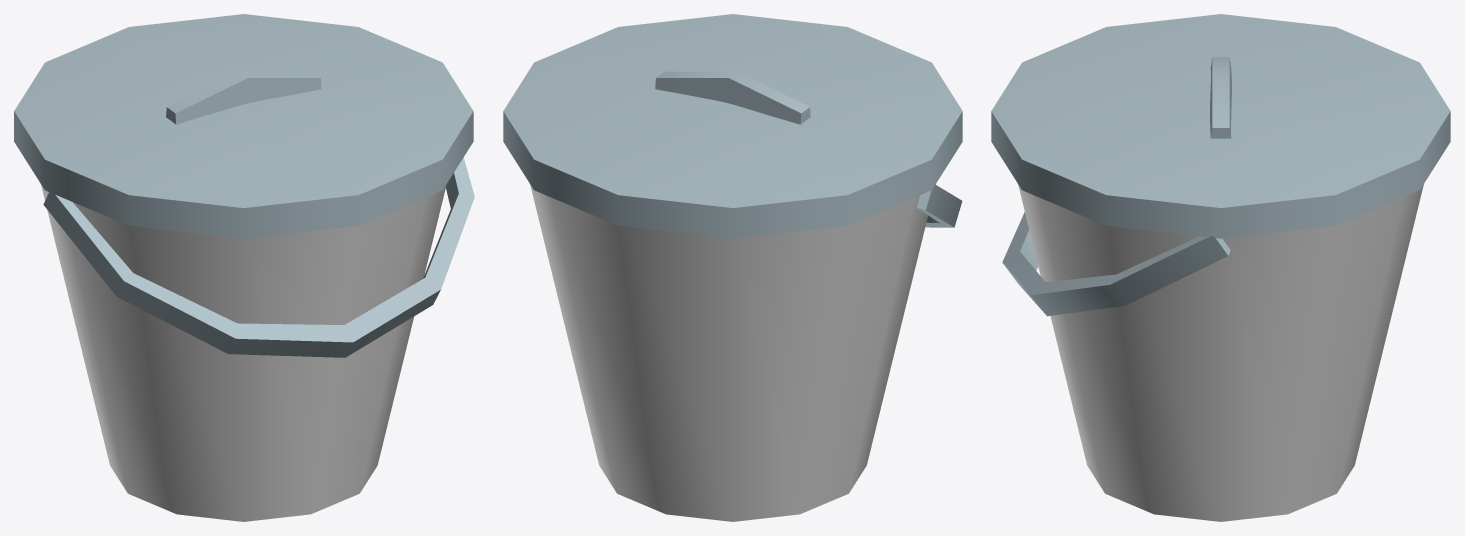
The model's file is bathroom_item_009.glb.
The picture shows the model from 3 angles, left to right: view 1: azimuth 30°, elevation 25°; view 2: azimuth 150°, elevation 25°; view 3: azimuth 270°, elevation 25°; orthographic projection.
Parts seen in each view (by area): view 1: bathroom_item_009; view 2: bathroom_item_009; view 3: bathroom_item_009.
Boxes of the visible parts, box(x1,y1,x2,y2) form: bathroom_item_009: box(14, 14, 474, 521); bathroom_item_009: box(503, 14, 962, 521); bathroom_item_009: box(991, 14, 1450, 521).
Bounding box in the file's own units: 0.2225 × 0.2088 × 0.2225.
1 material, 1 textured.
